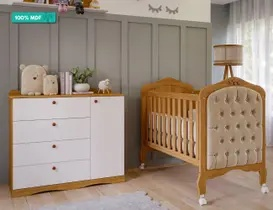crib: (139, 77, 269, 205)
